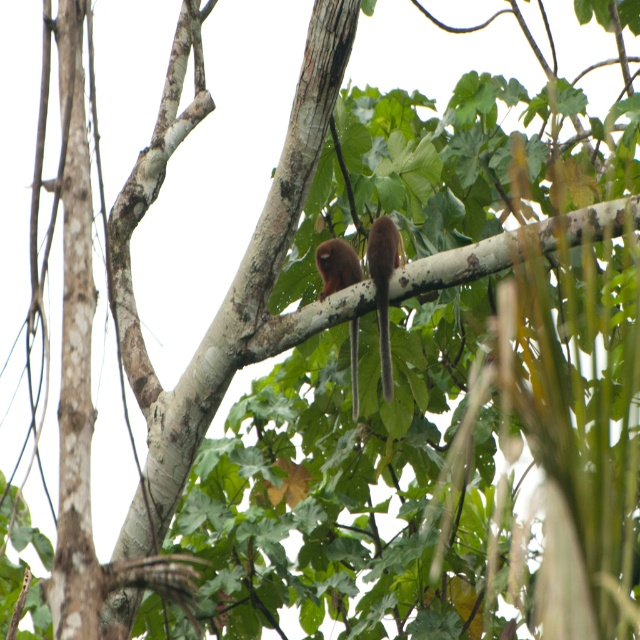Monkey: (312, 239, 362, 423), (366, 213, 399, 403)
